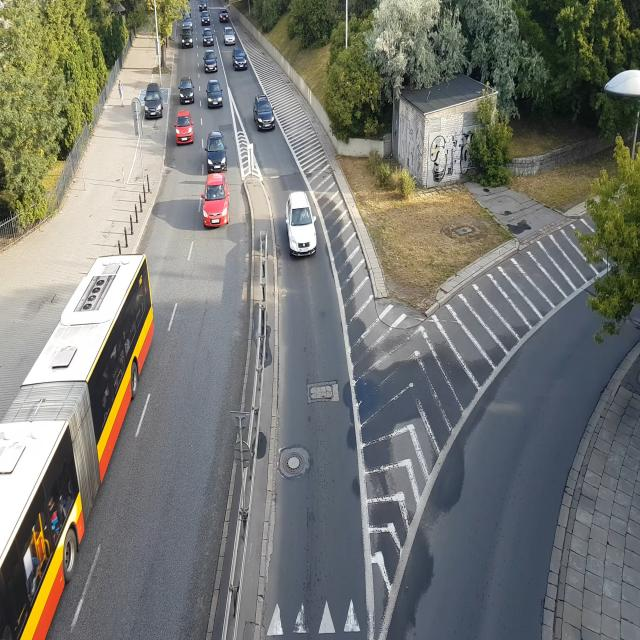bus: (0, 245, 159, 640)
car: (284, 192, 318, 258), (203, 172, 231, 227), (206, 134, 228, 174), (142, 85, 165, 120), (174, 112, 196, 146), (254, 99, 275, 132), (205, 82, 223, 108), (208, 151, 228, 173), (180, 80, 196, 104), (232, 52, 248, 70), (203, 54, 217, 73), (224, 28, 237, 45), (182, 34, 194, 52), (182, 16, 196, 30), (203, 30, 214, 46), (220, 10, 231, 22), (202, 13, 210, 24), (198, 1, 208, 9)
